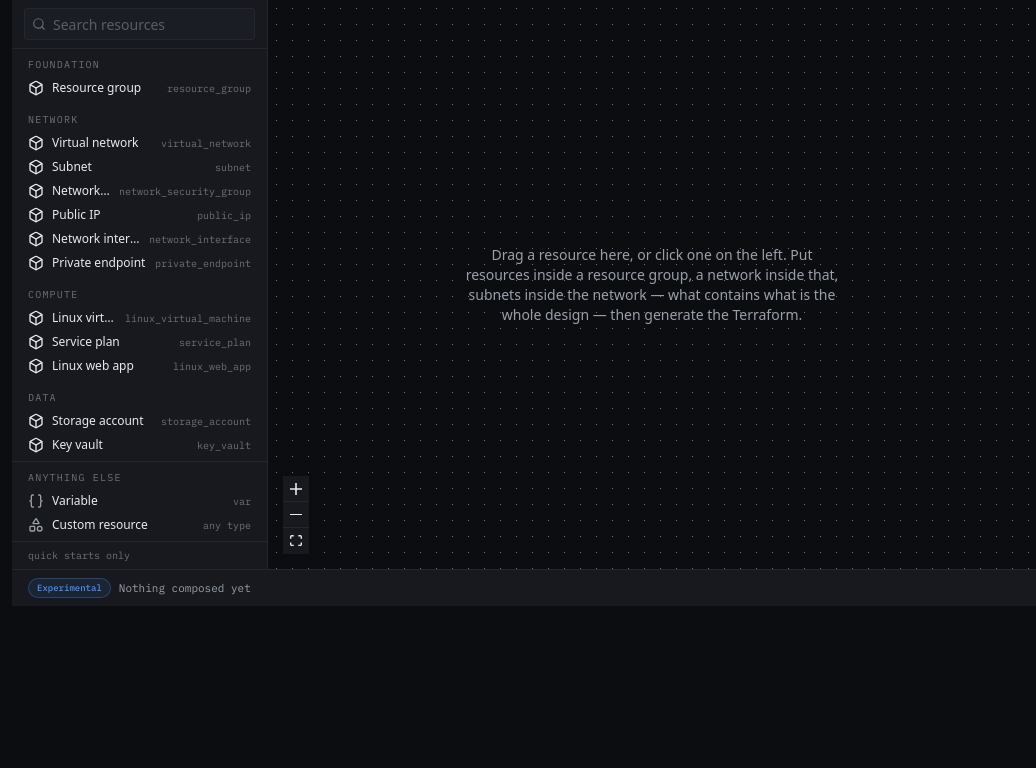
Test: composes a resource from the palette and opens its form
This screenshot has width=1036, height=768.
Expected: the message reads "Nothing composed yet", x1=119 y1=580 x2=251 y2=594
Click the button "Resource group resource_group".
click(140, 88)  # box x1=12 y1=76 x2=267 y2=100
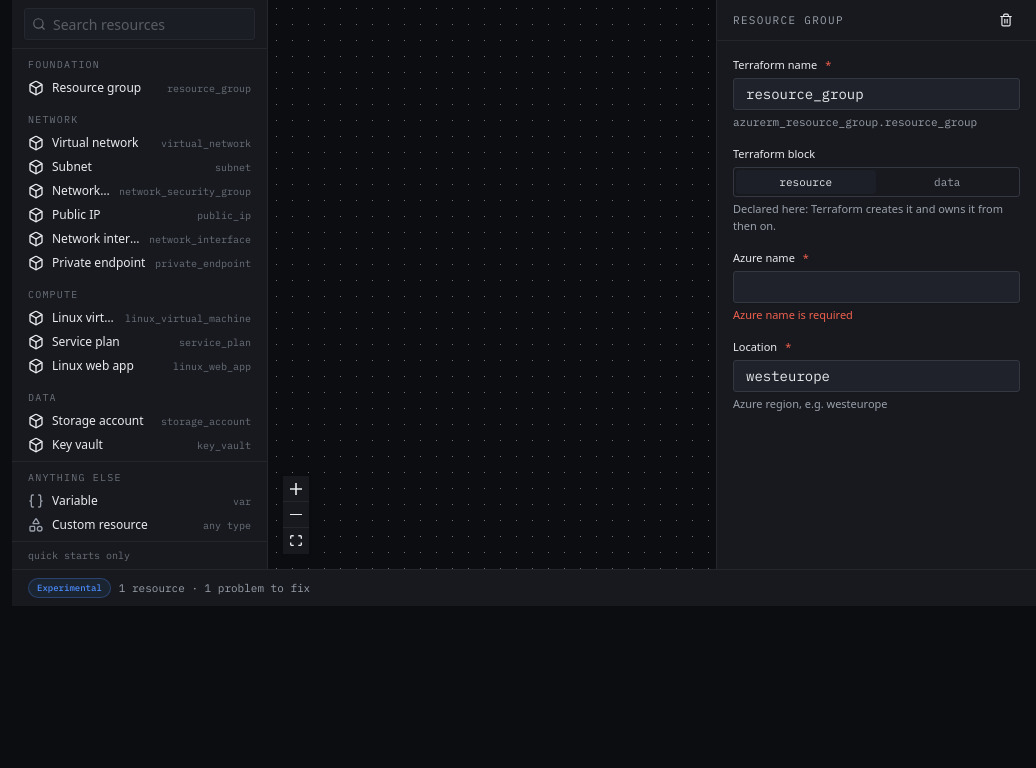
Expected: the field labelled "Terraform name *" holds "resource_group", x1=733 y1=78 x2=1020 y2=110
Expected: the field labelled "Location *" holds "westeurope", x1=733 y1=360 x2=1020 y2=392
